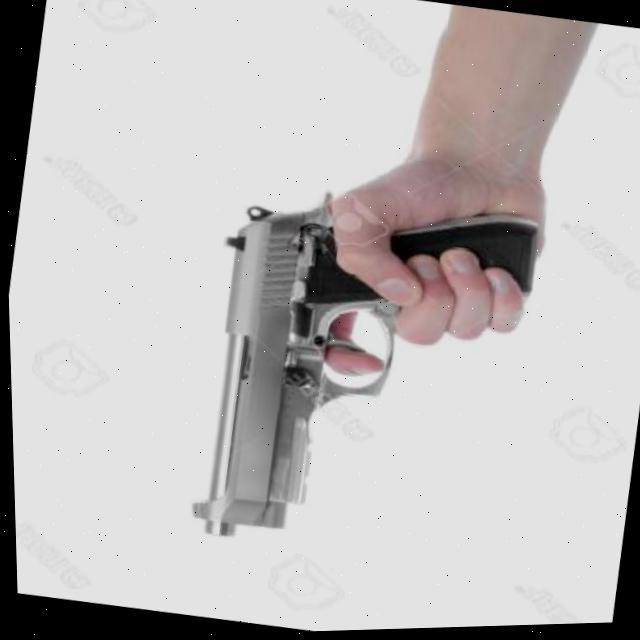gun: (172, 162, 562, 584)
